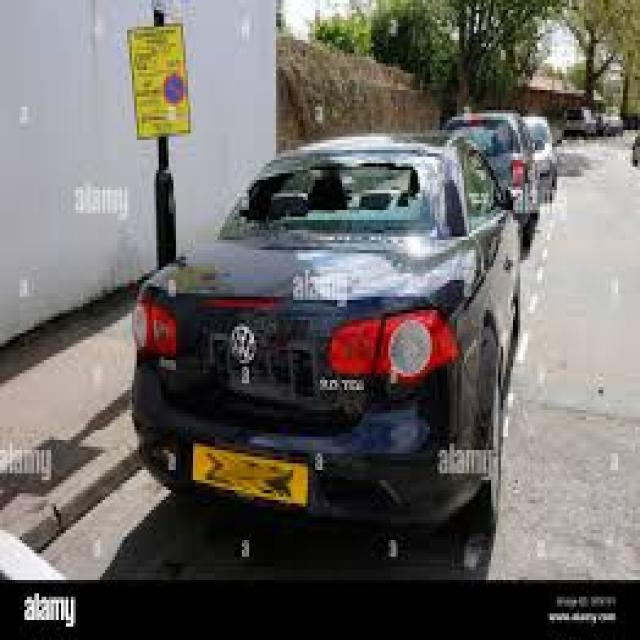damaged-rear-window: (230, 148, 458, 244)
